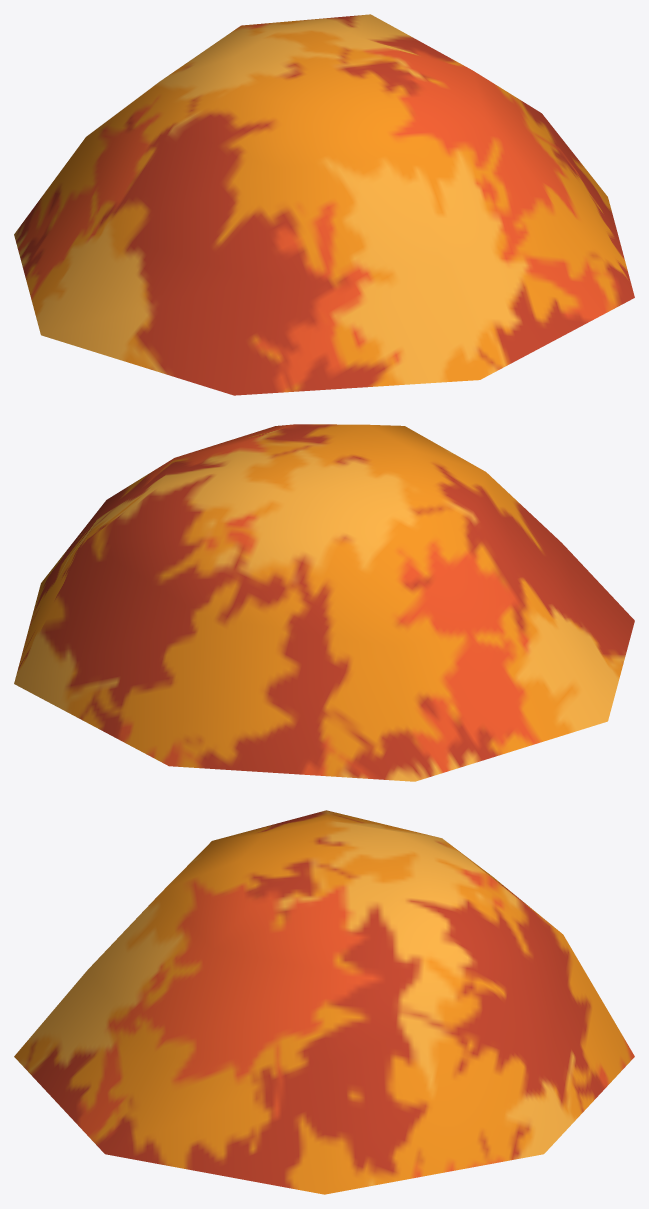
Rendered from MM_PileOfLeaves_02.fbx.
3 views of the same model, one above another, from view 1: azimuth 30°, elevation 25°; view 2: azimuth 150°, elevation 25°; view 3: azimuth 270°, elevation 25° (orthographic).
Parts seen in each view (by area): view 1: MM_PileOfLeaves_02; view 2: MM_PileOfLeaves_02; view 3: MM_PileOfLeaves_02.
Part boxes in pixels (x1,y1,x2,y2): MM_PileOfLeaves_02: (14,14,634,395); MM_PileOfLeaves_02: (14,424,634,781); MM_PileOfLeaves_02: (14,810,634,1194).
Size of the model in its own units: 99.83 by 34.18 by 94.9.
